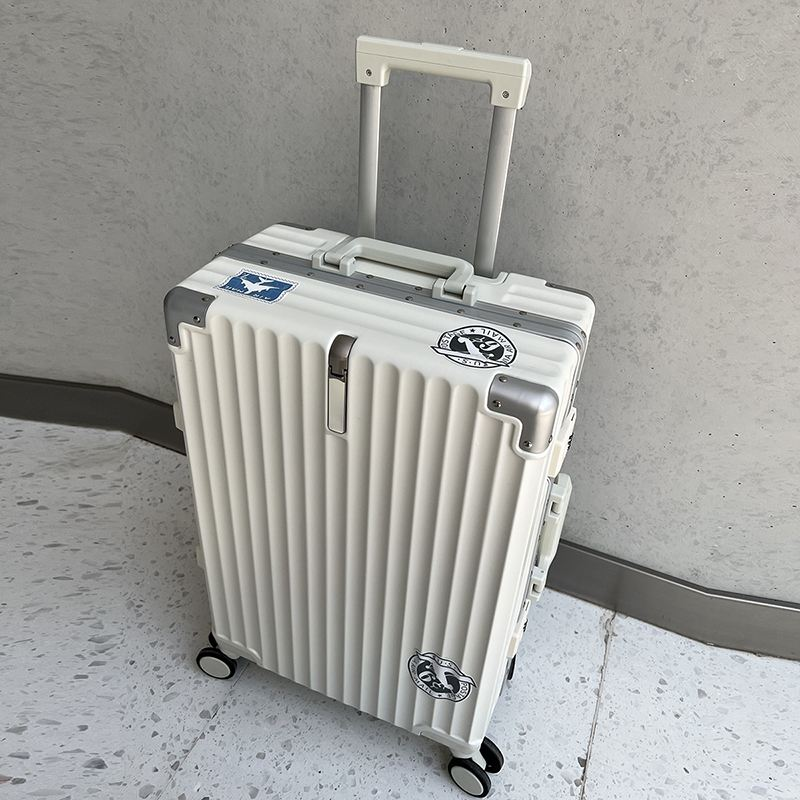box: (164, 221, 596, 752)
handle: (311, 236, 478, 307)
wheel: (448, 735, 504, 798), (196, 632, 238, 680)
